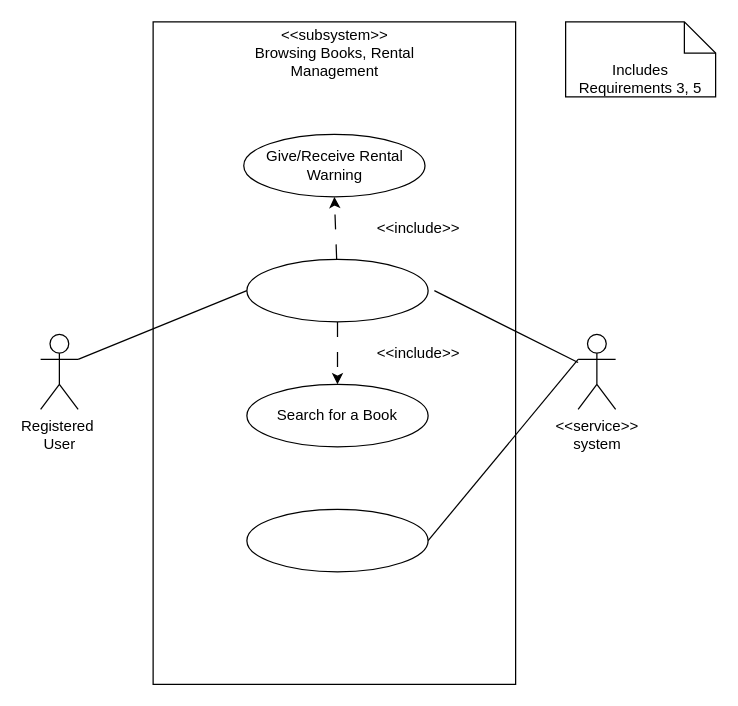
The diagram is 738 pixels wide and 706 high, and some of its shapes have lost their labels. Here are the shapes that lost their labels. From the top down, the box of each, then its label:
(246, 258, 428, 322): View Current Rentals
(246, 508, 428, 572): Show Book Reccomendations
